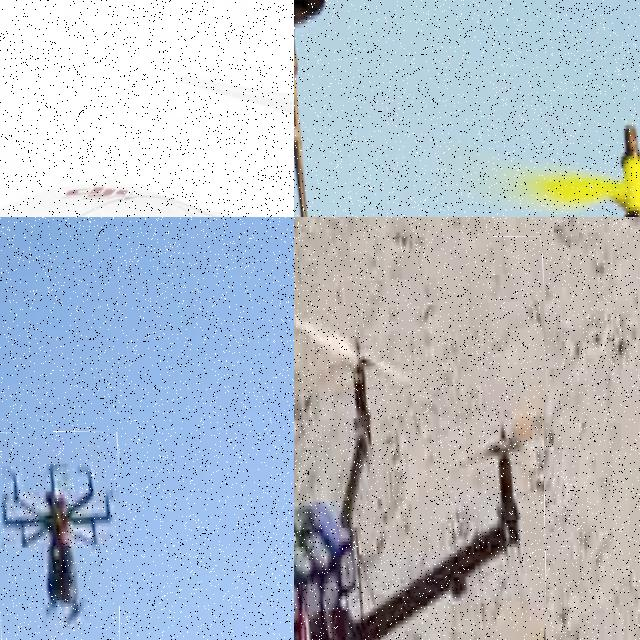drone: (294, 237, 544, 640), (294, 0, 640, 217), (0, 0, 294, 217), (0, 432, 119, 640)
